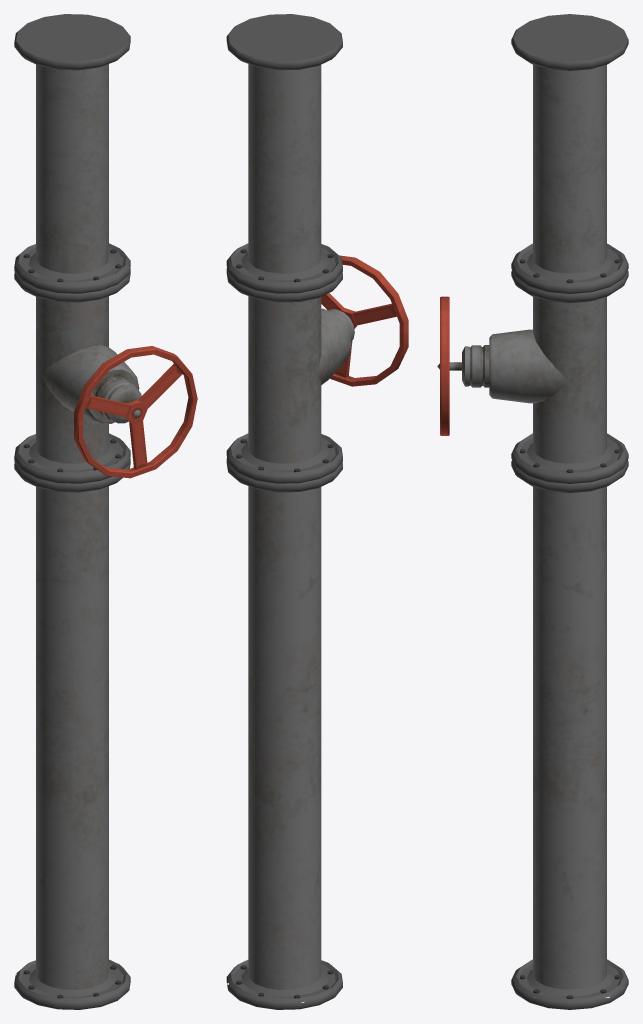
File: valve.gltf
3 views of the same model, side by side, from view 1: azimuth 30°, elevation 25°; view 2: azimuth 150°, elevation 25°; view 3: azimuth 270°, elevation 25° (orthographic).
Parts seen in each view (by area): view 1: Normal, Short, Valve; view 2: Normal, Short, Valve; view 3: Normal, Short, Valve.
Part boxes in pixels (bbox=[...]): Normal: bbox=[14, 458, 130, 1009]; Short: bbox=[14, 14, 130, 293]; Valve: bbox=[14, 268, 197, 483]; Normal: bbox=[226, 458, 342, 1009]; Short: bbox=[226, 14, 342, 293]; Valve: bbox=[226, 255, 408, 483]; Normal: bbox=[511, 460, 628, 1009]; Short: bbox=[511, 14, 628, 293]; Valve: bbox=[437, 270, 628, 483].
Size of the model in its own units: 0.2989 by 2.25 by 0.4123.
2 materials, 1 textured.
